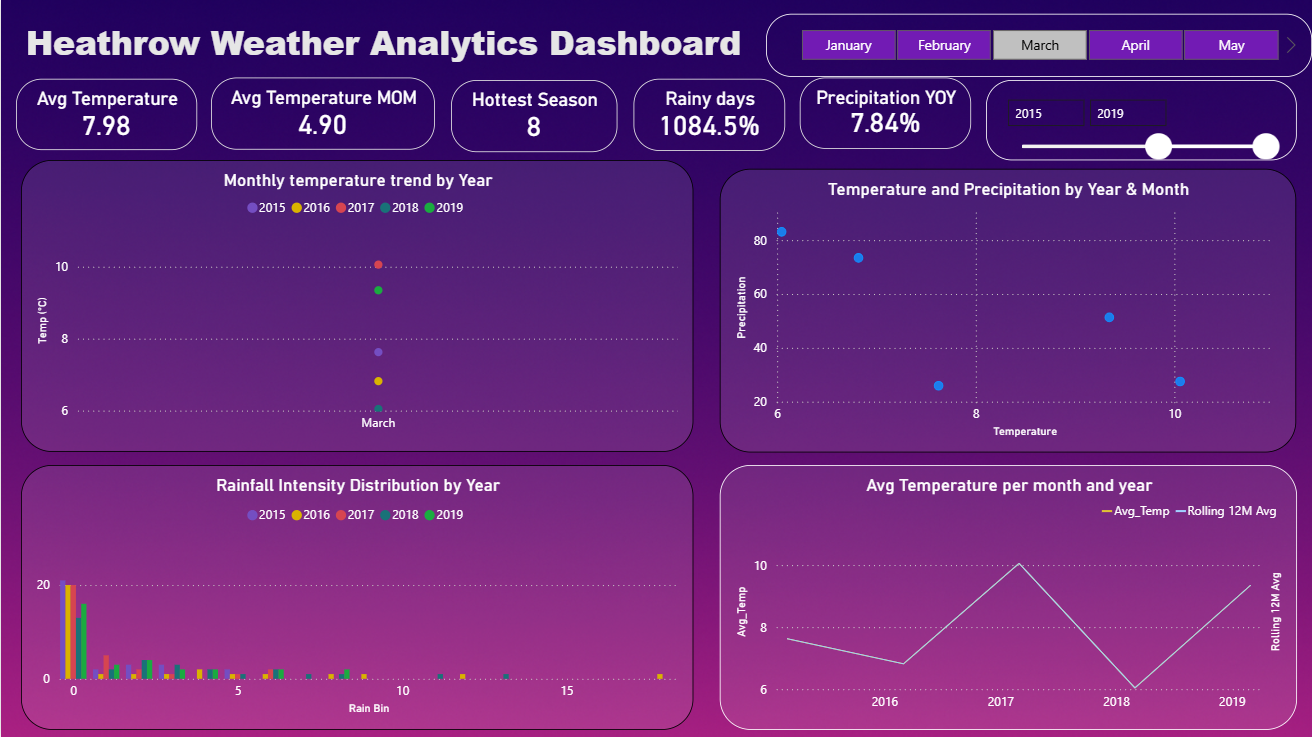

This screenshot's page, from the dashboard's own definition file:
{"tool":"powerbi","page":{"name":"Page 1","canvas":[1280,720],"ordinal":0},"visuals":[{"type":"card","title":"Avg Temperature","fields":{"Values":["Avg(HeathrowMeteo2010-2019 (2).TAVG)","select"]},"box":[14.3,76.7,176.7,69.9],"z":0},{"type":"card","title":"Hottest Season","fields":{"Values":["Analysis_1.Hottest Season","select"]},"box":[438.8,77.6,162.2,70.4],"z":1000},{"type":"card","title":"Rainy days","fields":{"Values":["Analysis_2.Rainy Days %","select"]},"box":[617.3,76.5,148,70.4],"z":2000},{"type":"card","title":"Precipitation YOY","fields":{"Values":["Analysis_2.Precipitation YoY %","select"]},"box":[779.6,75.5,167.3,69.4],"z":3000},{"type":"lineChart","title":"Avg Temperature per month and year","fields":{"Y2":["Analysis_1.Rolling 12M Avg"],"Y":["Analysis_1.Avg_Temp"],"Category":["Analysis_2.DATE.Variation.Date Hierarchy.Year","Analysis_2.DATE.Variation.Date Hierarchy.Month"]},"box":[701.2,453.7,563.4,258.5],"z":4000},{"type":"lineChart","title":"Monthly temperature trend by Year","fields":{"Category":["Analysis_2.DATE.Variation.Date Hierarchy.Month"],"Y":["Analysis_1.Avg_Temp"],"Series":["Analysis_2.DATE.Variation.Date Hierarchy.Year"]},"box":[19.3,156.1,656.1,284.7],"z":5000},{"type":"scatterChart","title":"Temperature and Precipitation by Year & Month","fields":{"X":["Analysis_1.Avg_Temp"],"Category":["Analysis_2.DATE.Variation.Date Hierarchy.Year","Analysis_2.DATE.Variation.Date Hierarchy.Month"],"Y":["Analysis_2.total_PRCP"]},"box":[701.2,164.6,562.2,276.8],"z":6000},{"type":"clusteredColumnChart","title":"Rainfall Intensity Distribution by Year","fields":{"Category":["Analysis_2.Rain Bin"],"Y":["CountNonNull(Analysis_2.DATE)"],"Series":["Analysis_2.DATE.Variation.Date Hierarchy.Year"]},"box":[19.3,454.1,656.1,258.2],"z":7000},{"type":"textbox","box":[0,13.8,746.2,56.2],"z":8000},{"type":"card","title":"Avg Temperature MOM","fields":{"Values":["Analysis_2.Avg Temp MoM","select"]},"box":[205.1,75.5,218.4,70.4],"z":9000},{"type":"slicer","fields":{"Values":["Analysis_2.DATE.Variation.Date Hierarchy.Year"]},"box":[961.2,77.7,302.9,78.6],"z":10000},{"type":"slicer","fields":{"Values":["Analysis_2.DATE.Variation.Date Hierarchy.Month"]},"box":[746.2,13.8,532.5,61.2],"z":11000}]}

Visuals, with their boxes in screenshot pixels (x1, y1, x2, y2), scaled from the page's 1280x720 canvas onto the 1312x737 screenshot:
"Avg Temperature" card: (x1=15, y1=79, x2=196, y2=150)
"Hottest Season" card: (x1=450, y1=79, x2=616, y2=151)
"Rainy days" card: (x1=633, y1=78, x2=784, y2=150)
"Precipitation YOY" card: (x1=799, y1=77, x2=971, y2=148)
"Avg Temperature per month and year" lineChart: (x1=719, y1=464, x2=1296, y2=729)
"Monthly temperature trend by Year" lineChart: (x1=20, y1=160, x2=692, y2=451)
"Temperature and Precipitation by Year & Month" scatterChart: (x1=719, y1=168, x2=1295, y2=452)
"Rainfall Intensity Distribution by Year" clusteredColumnChart: (x1=20, y1=465, x2=692, y2=729)
textbox: (x1=0, y1=14, x2=765, y2=72)
"Avg Temperature MOM" card: (x1=210, y1=77, x2=434, y2=149)
slicer - Analysis_2.DATE.Variation.Date Hierarchy.Year: (x1=985, y1=80, x2=1296, y2=160)
slicer - Analysis_2.DATE.Variation.Date Hierarchy.Month: (x1=765, y1=14, x2=1311, y2=77)
